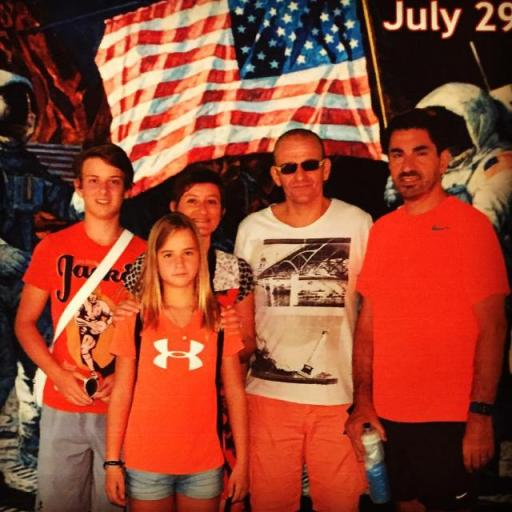Under Armour: (150, 335, 206, 373)
